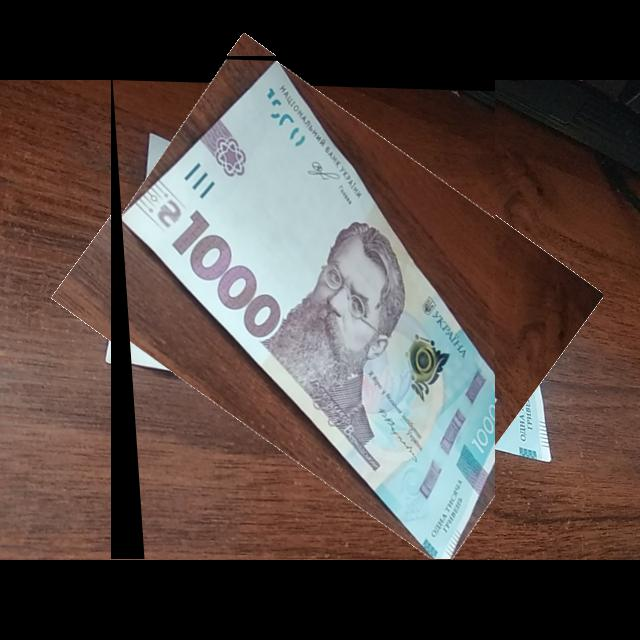1000uah: (120, 60, 496, 560)
